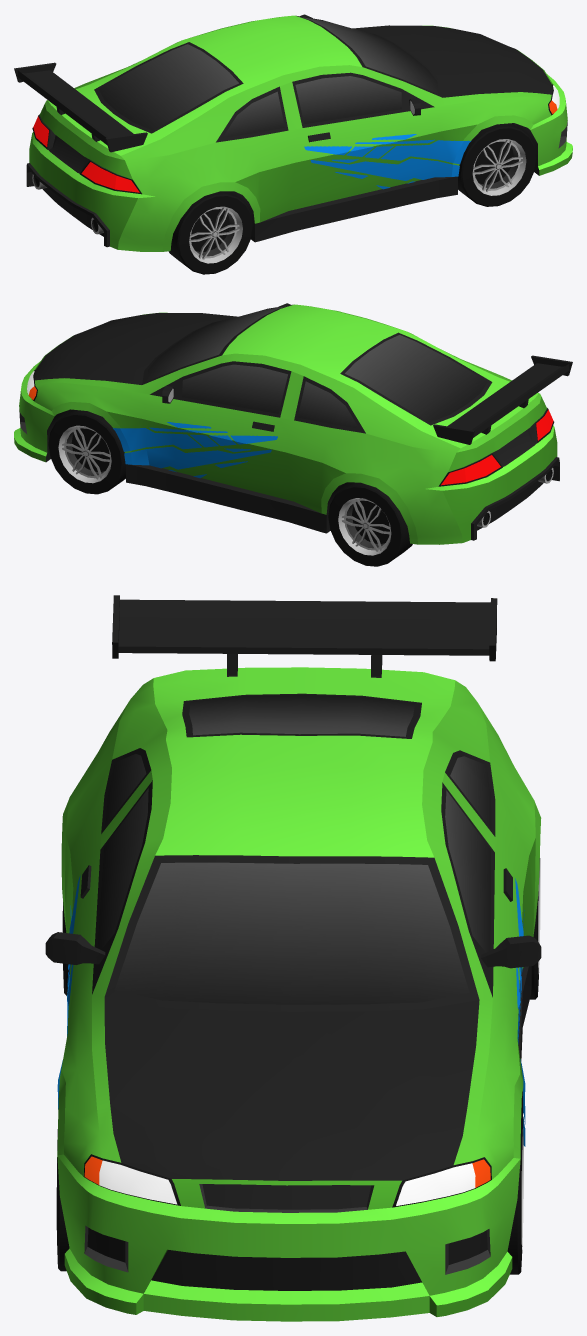
File: Car_195.glb
3 views of the same model, one above another, from view 1: azimuth 30°, elevation 25°; view 2: azimuth 150°, elevation 25°; view 3: azimuth 270°, elevation 25° (orthographic). The views are drawn at different scales.
Visible parts, largest first — view 1: Car_195, wheel_3_Car_195_Wheel_2R, wheel_1_Car_195_Wheel_1R; view 2: Car_195, wheel_2_Car_195_Wheel_2L, wheel_0_Car_195_Wheel_1L; view 3: Car_195, wheel_0_Car_195_Wheel_1L.
Part boxes in pixels (bbox=[...]): Car_195: bbox=[14, 14, 572, 251]; wheel_3_Car_195_Wheel_2R: bbox=[168, 191, 252, 274]; wheel_1_Car_195_Wheel_1R: bbox=[458, 123, 536, 206]; Car_195: bbox=[14, 303, 572, 544]; wheel_2_Car_195_Wheel_2L: bbox=[328, 482, 412, 566]; wheel_0_Car_195_Wheel_1L: bbox=[48, 409, 125, 494]; Car_195: bbox=[45, 595, 541, 1321]; wheel_0_Car_195_Wheel_1L: bbox=[507, 1105, 523, 1274].
Size of the model in its own units: 4.54 by 1.42 by 2.01.
3 materials, 3 textured.
